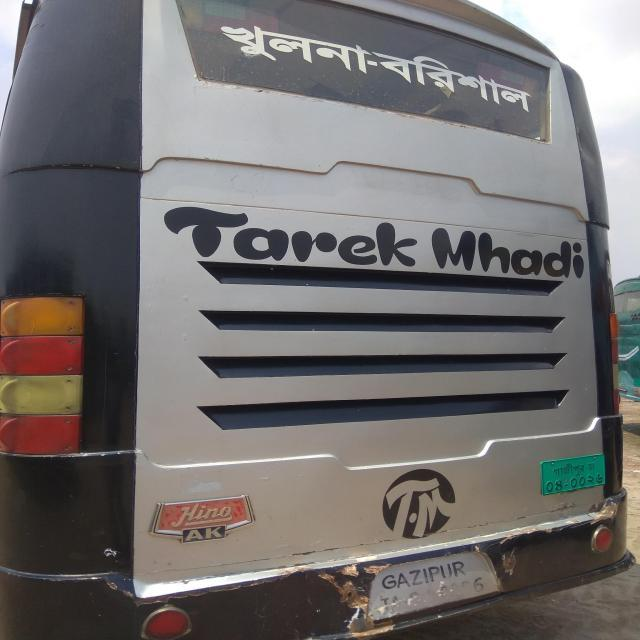numberplate: (365, 549, 500, 624), (539, 452, 606, 496)
